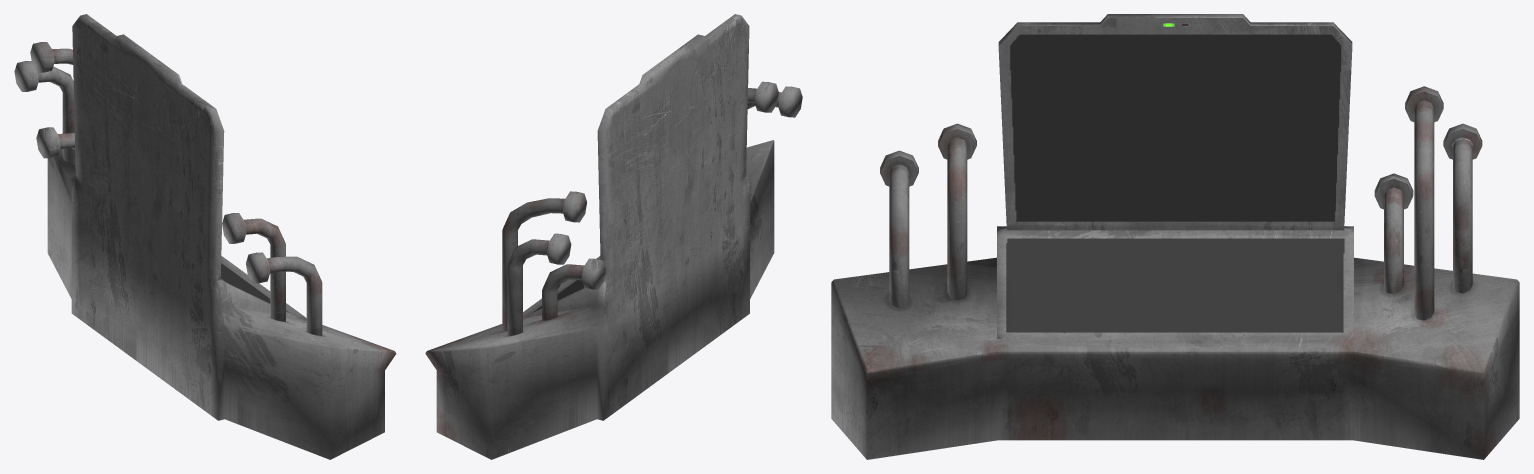
Rendered from SuperPC.fbx.
3 views of the same model, side by side, from view 1: azimuth 30°, elevation 25°; view 2: azimuth 150°, elevation 25°; view 3: azimuth 270°, elevation 25° (orthographic). The views are drawn at different scales.
Visible parts, largest first — view 1: Cube.109; view 2: Cube.109; view 3: Cube.109.
Part boxes in pixels (bbox=[...]): Cube.109: bbox=[14, 14, 396, 459]; Cube.109: bbox=[425, 14, 802, 459]; Cube.109: bbox=[831, 14, 1519, 459].
Size of the model in its own units: 86.36 by 188 by 310.
Materials: 1 (1 with a texture image).
